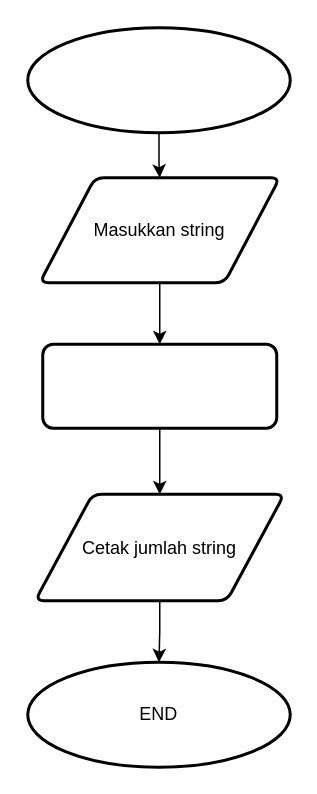
This 317x794 diagram has some shape labels left out. The centre of each missing label's shape, as x and y in pixels:
"Hitung jumlah string" goes at [159,385].
"START" goes at [158,80].
